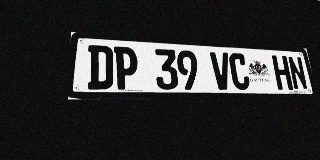3: (155, 49, 179, 90)
9: (176, 50, 200, 90)
C: (228, 53, 251, 90)
D: (87, 45, 113, 89)
H: (272, 55, 293, 90)
N: (287, 56, 308, 90)
P: (114, 46, 138, 89)
V: (210, 52, 233, 90)
